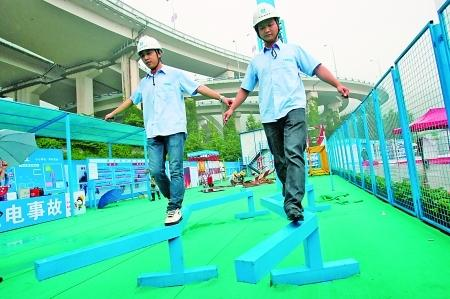helmet: (249, 0, 282, 30), (136, 37, 165, 55)
no_wear: (249, 44, 304, 125), (133, 69, 187, 141)
